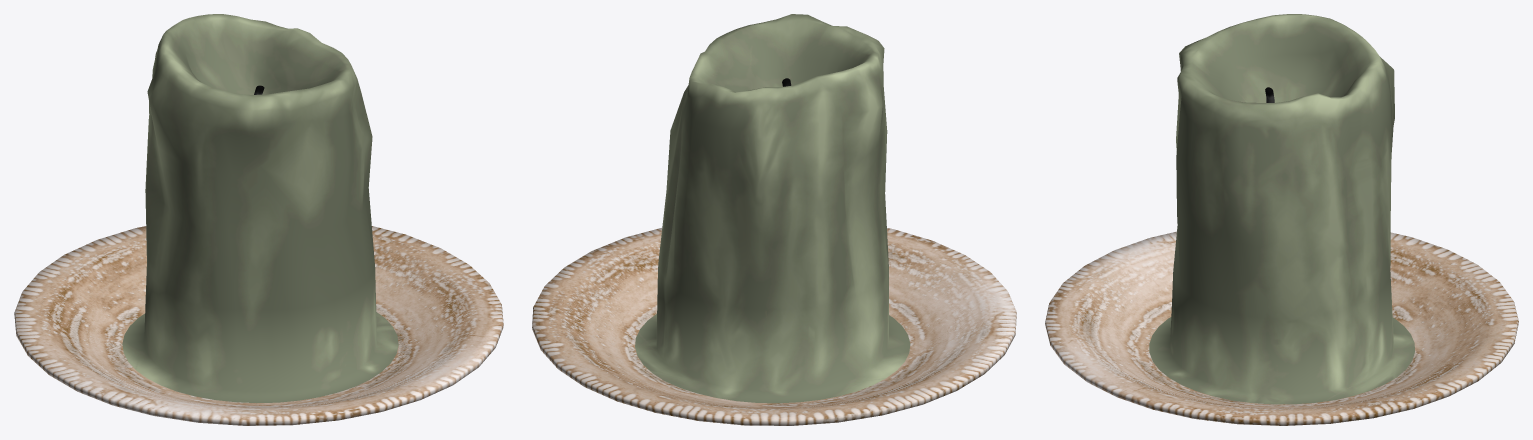
Rendered from Candle TEXTURE BAKE.glb.
3 views of the same model, side by side, from view 1: azimuth 30°, elevation 25°; view 2: azimuth 150°, elevation 25°; view 3: azimuth 270°, elevation 25° (orthographic). The views are drawn at different scales.
Visible parts, largest first — view 1: Candle.002; view 2: Candle.002; view 3: Candle.002.
Part boxes in pixels (box(x1,y1,x2,y2)): Candle.002: box(14, 14, 503, 425); Candle.002: box(532, 14, 1016, 425); Candle.002: box(1045, 14, 1518, 425).
Size of the model in its own units: 0.1793 by 0.1259 by 0.1793.
1 material, 1 textured.
